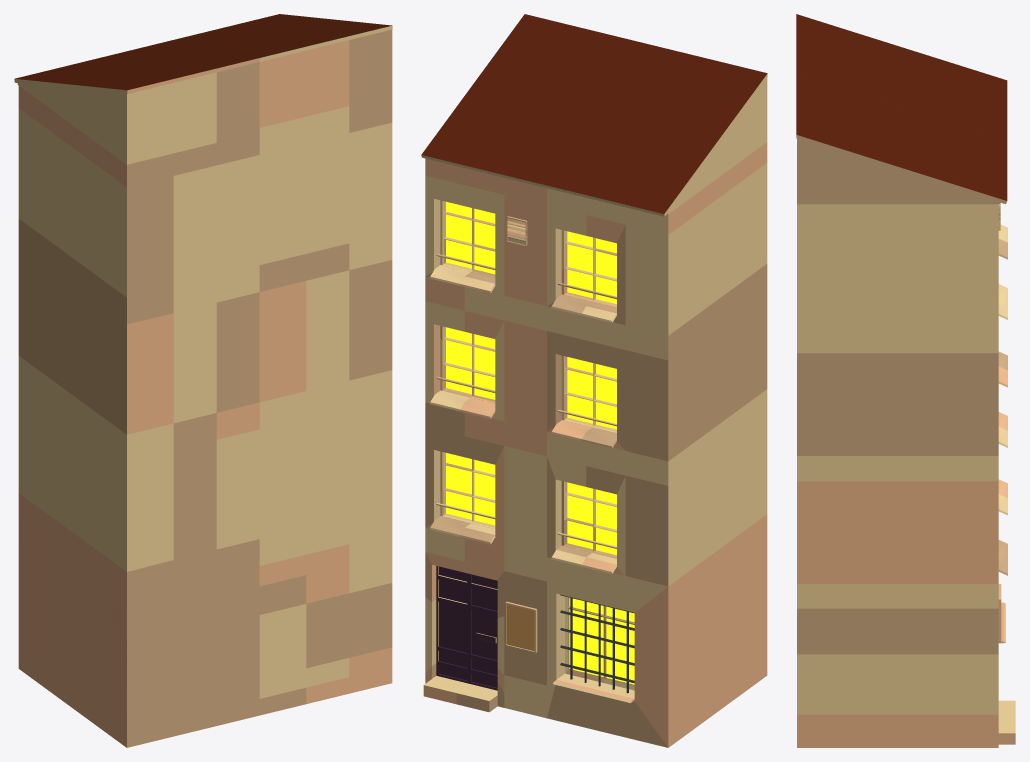
File: house1 1.fbx
3 views of the same model, side by side, from view 1: azimuth 30°, elevation 25°; view 2: azimuth 150°, elevation 25°; view 3: azimuth 270°, elevation 25° (orthographic). The views are drawn at different scales.
Parts seen in each view (by area): view 1: pasted__polySurface2, polySurface4, pasted__polySurface3, polySurface3, pasted__polySurface1, polySurface2, polySurface1, pasted__polySurface5, pCube4, pCube3; view 2: polySurface4, pasted__polySurface2, pasted__polySurface3, polySurface3, pCube4, pCube3, polySurface2, polySurface1, pasted__polySurface5, pasted__polySurface1, Grid_pPrism3, pCube5 (+1 smaller); view 3: polySurface2, pasted__polySurface1, polySurface1, pasted__polySurface5, pCube3, pCube4.
Part boxes in pixels (box(x1,y1,x2,y2)): pasted__polySurface2: box(17, 62, 259, 297); polySurface4: box(18, 493, 259, 747); pasted__polySurface3: box(18, 219, 259, 434); polySurface3: box(18, 356, 259, 571); pasted__polySurface1: box(259, 29, 392, 264); polySurface2: box(259, 507, 392, 715); polySurface1: box(259, 370, 392, 539); pasted__polySurface5: box(259, 233, 392, 402); pCube4: box(14, 46, 259, 93); pCube3: box(148, 14, 392, 61); polySurface4: box(547, 514, 767, 747); pasted__polySurface2: box(547, 75, 767, 335); pasted__polySurface3: box(547, 264, 767, 461); polySurface3: box(547, 389, 767, 586); pCube4: box(542, 43, 767, 216); pCube3: box(421, 14, 645, 186); polySurface2: box(423, 528, 546, 718); polySurface1: box(425, 402, 546, 557); pasted__polySurface5: box(425, 276, 546, 431); pasted__polySurface1: box(425, 158, 546, 306); Grid_pPrism3: box(560, 594, 634, 693); pCube5: box(505, 601, 537, 653); polySurface2: box(797, 584, 1015, 747); pasted__polySurface1: box(797, 136, 1007, 328); polySurface1: box(797, 456, 1007, 583); pasted__polySurface5: box(797, 328, 1007, 455); pCube3: box(796, 74, 1007, 204); pCube4: box(796, 14, 1007, 140).
Size of the model in its own units: 7.85 by 18.58 by 6.02.
